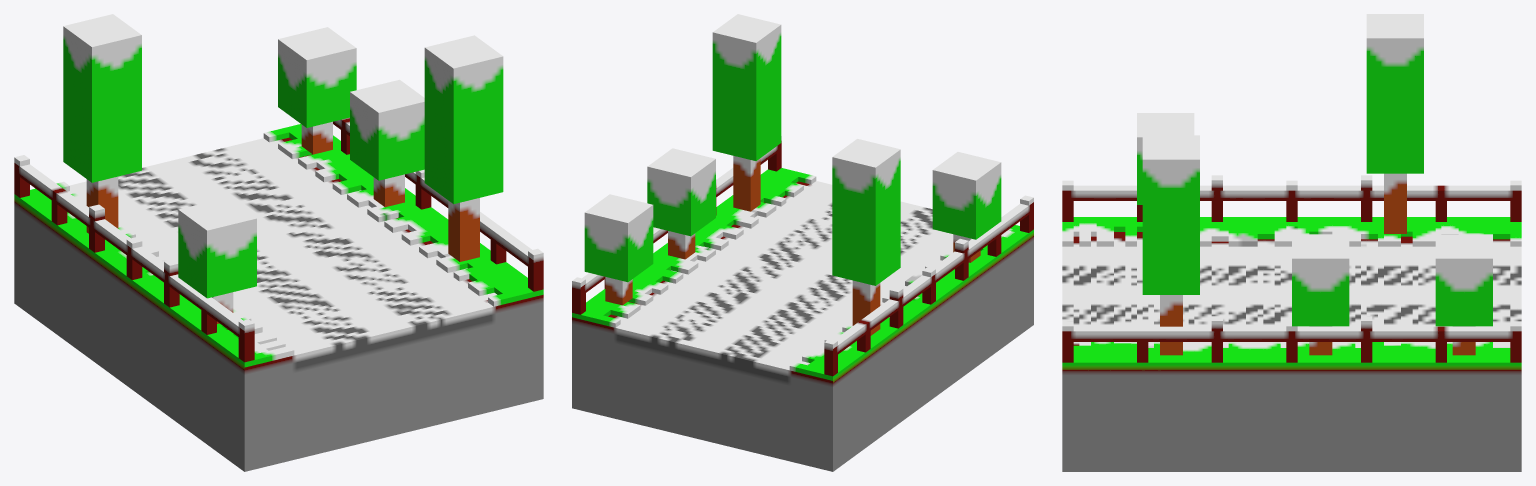
File: NomalPlane.fbx
3 views of the same model, side by side, from view 1: azimuth 30°, elevation 25°; view 2: azimuth 150°, elevation 25°; view 3: azimuth 270°, elevation 25° (orthographic). The views are drawn at different scales.
Visible parts, largest first — view 1: NormalPlane; view 2: NormalPlane; view 3: NormalPlane.
Part boxes in pixels (<box>): NormalPlane: <box>14,14,543,471</box>; NormalPlane: <box>572,14,1033,471</box>; NormalPlane: <box>1062,14,1521,471</box>.
Bounding box in the file's own units: 60 × 60 × 80.
Materials: 1 (1 with a texture image).
